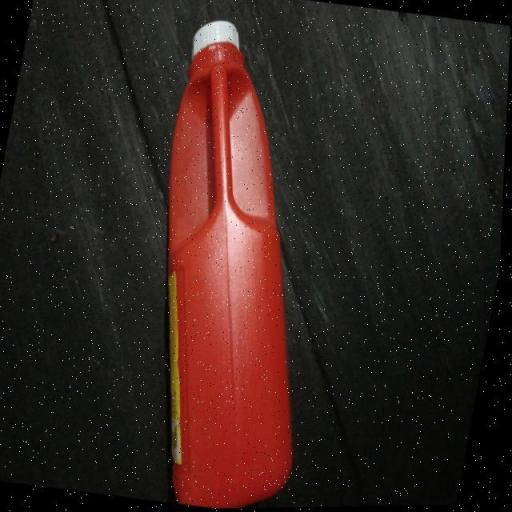plastic: (100, 8, 384, 511)
